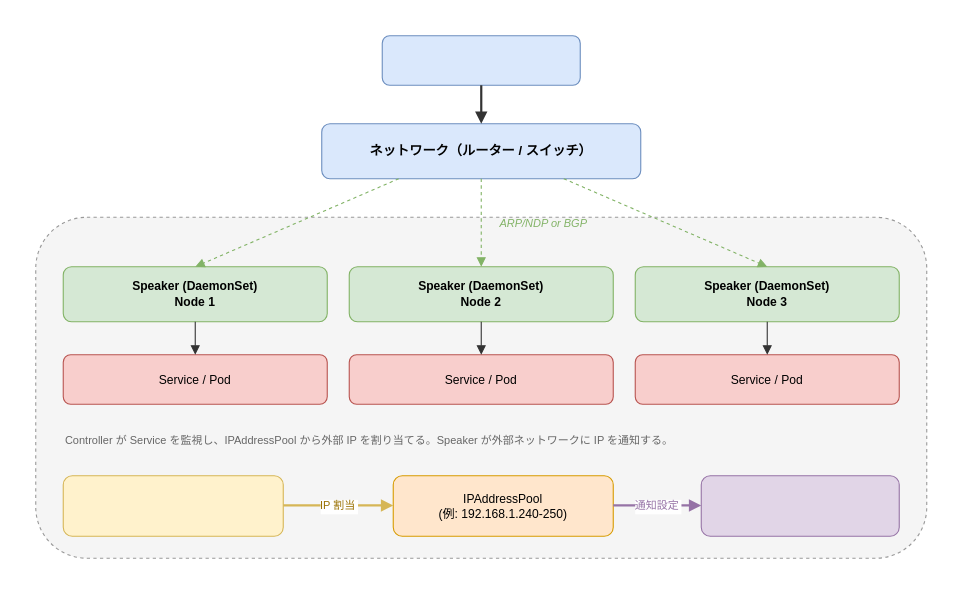
Image size: 961x598. Some labels were removed from this diagram. The box of each missing label's shape, as (x1, y1, x2, y2) in pixels:
Kubernetes Cluster: (35, 216, 927, 558)
L2Advertisement / BGPAdvertisement: (700, 475, 899, 536)
MetalLB Controller (Deployment): (62, 475, 283, 536)
外部クライアント: (381, 35, 580, 85)
